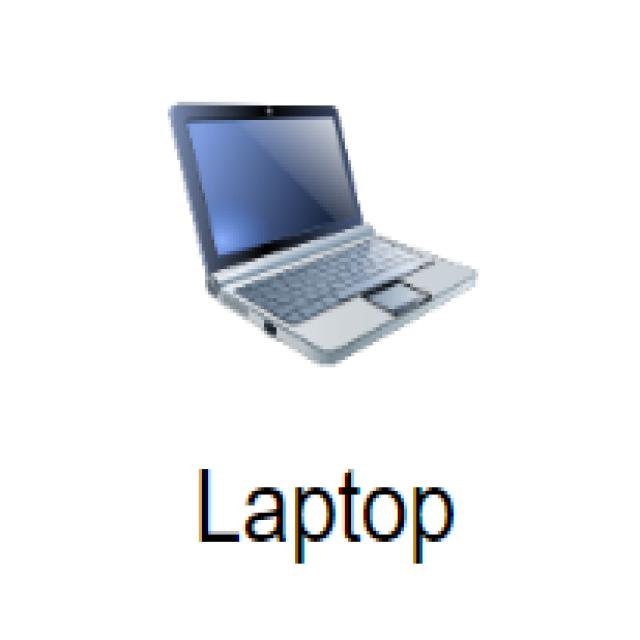Client: (130, 67, 499, 400)
